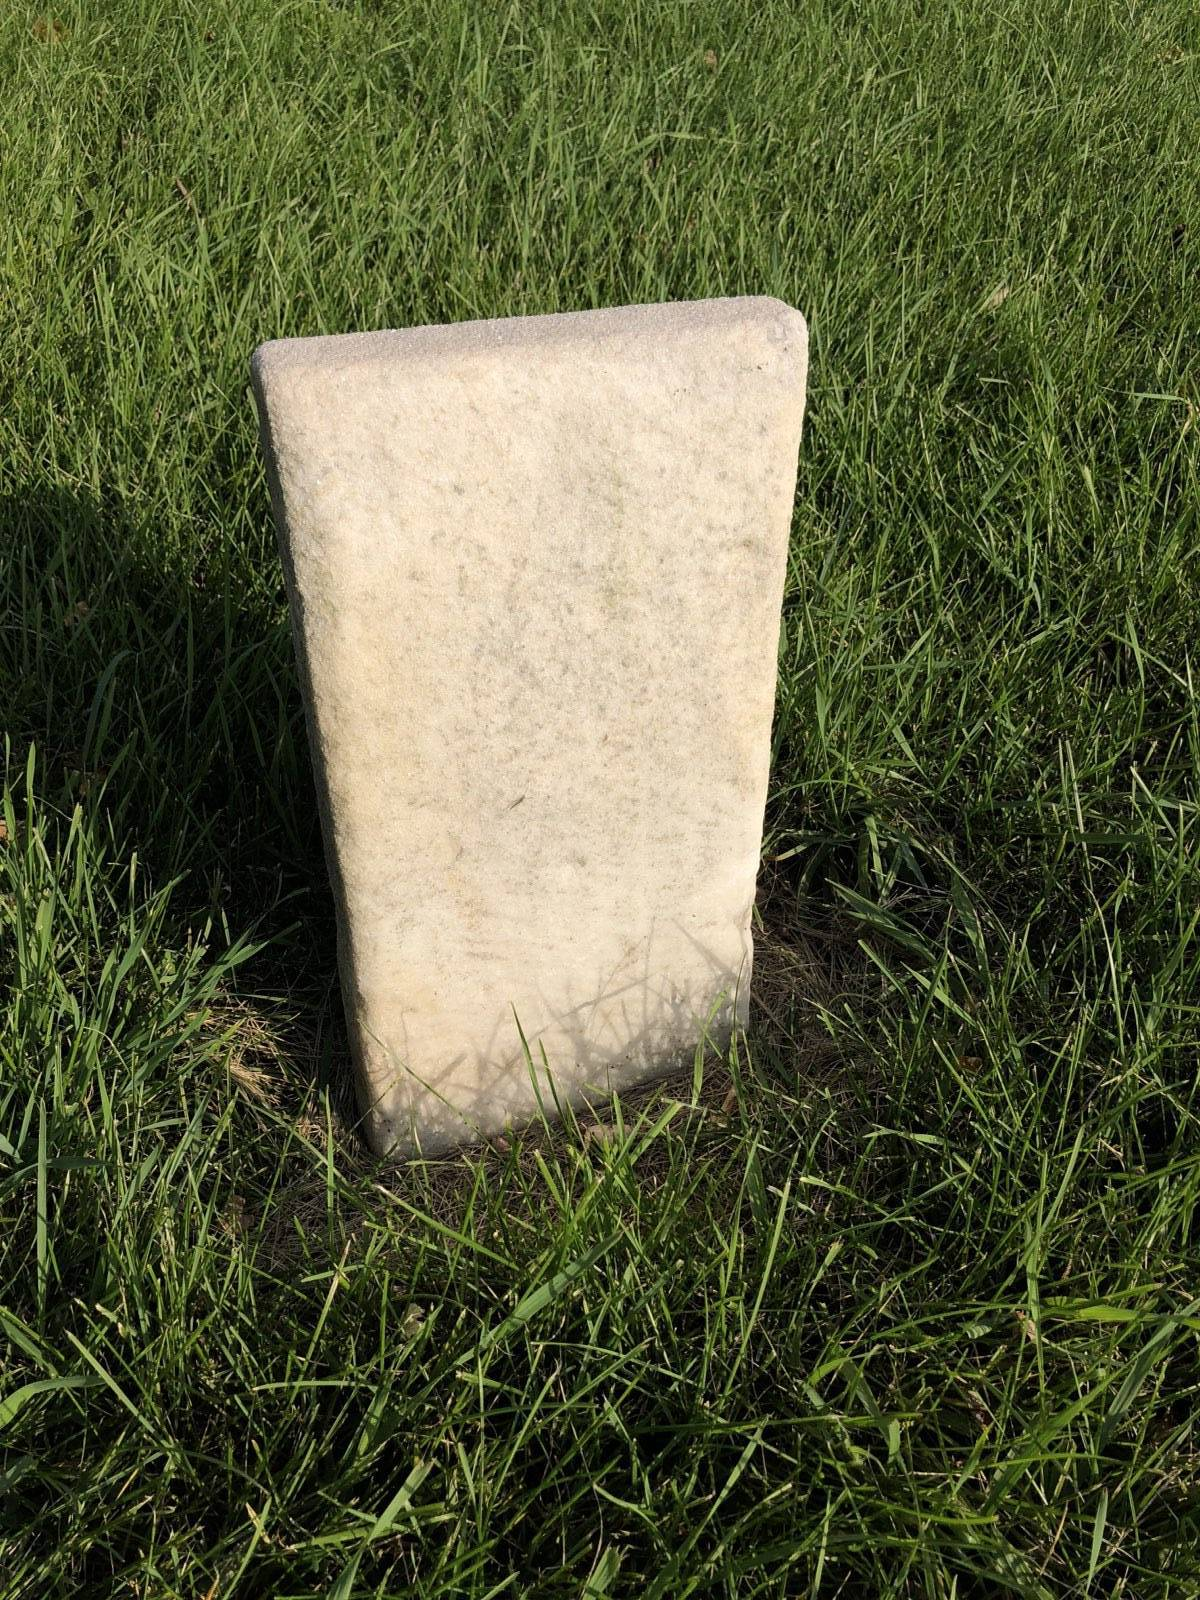upright: (248, 289, 812, 1164)
